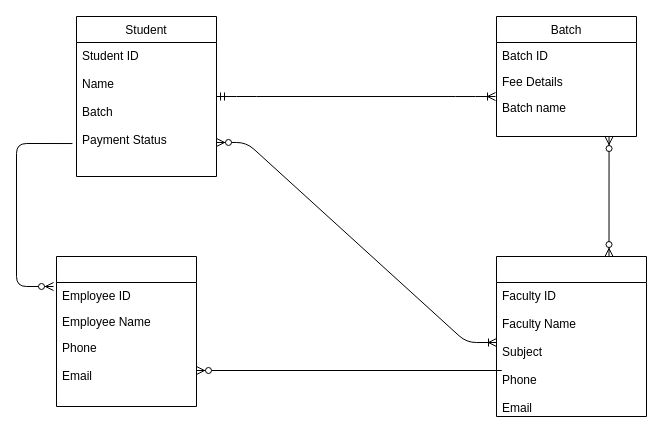
Some shapes in this 663 by 433 pixel diagram are drawn without their labels. Each missing label, with the box of its shape:
Emergency contact: (56, 256, 196, 406)
Teachers: (496, 256, 646, 416)
